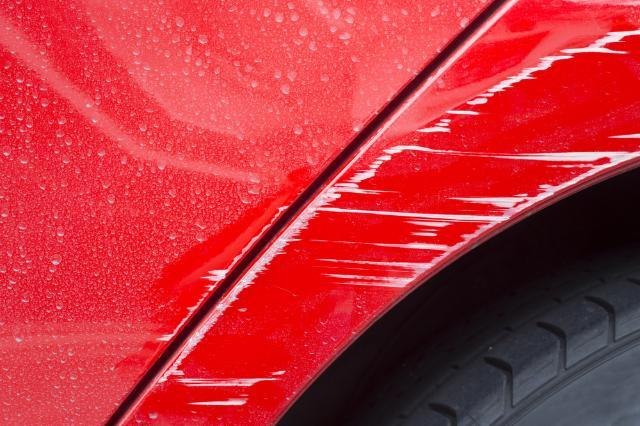scratch: (152, 16, 640, 412), (154, 204, 296, 345)
